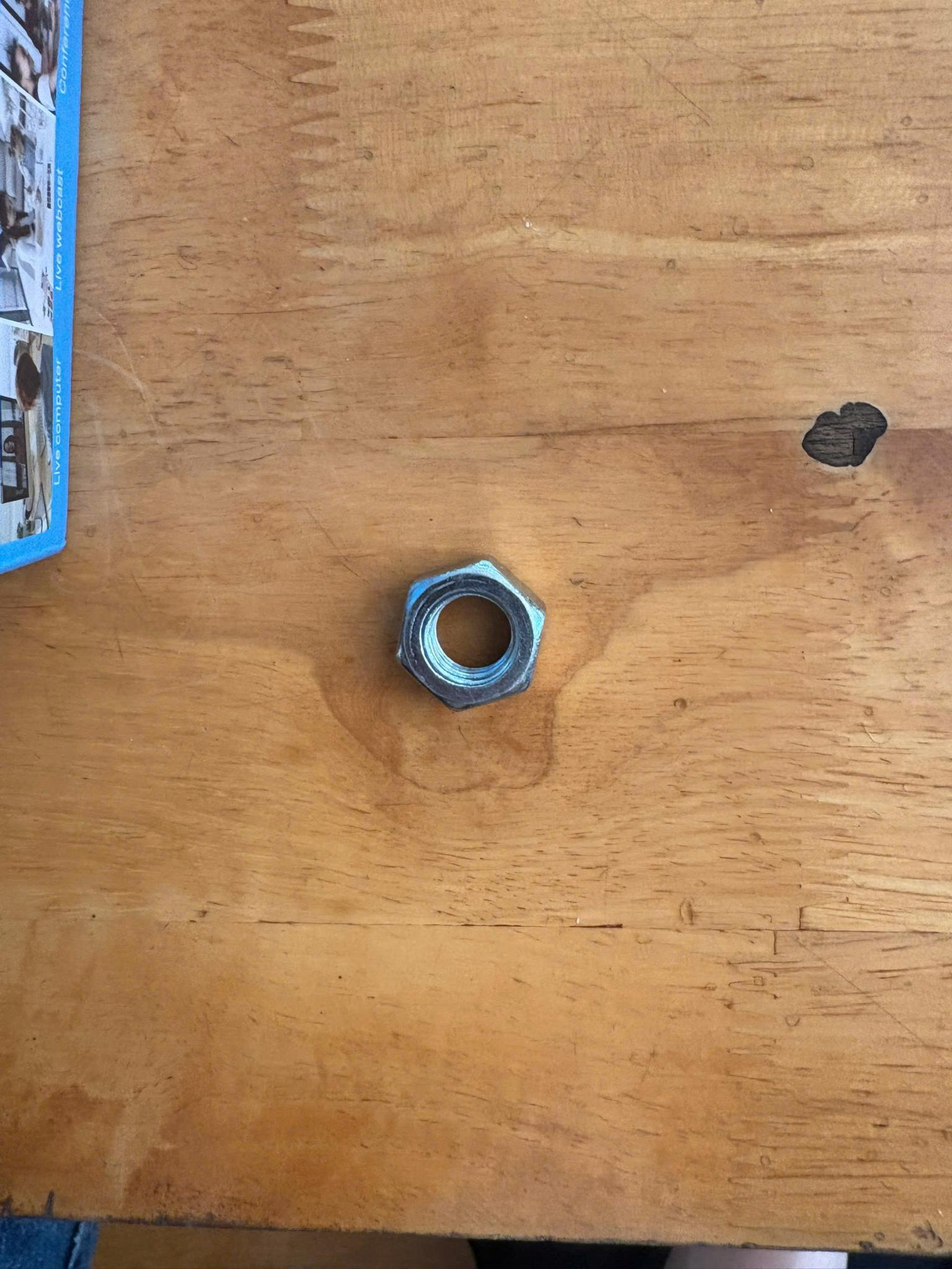nut: (377, 541, 557, 740)
